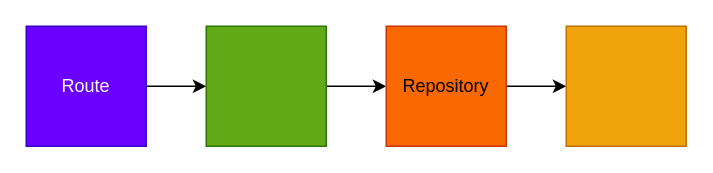
Some shapes in this 713 by 173 pixel diagram are drawn without their labels. Each missing label, with the centre of its shape:
"Contoller" goes at (265,85).
"Model" goes at (625,85).
